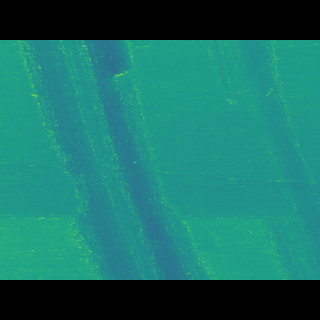Loch: (13, 69, 210, 249), (207, 69, 320, 250)
